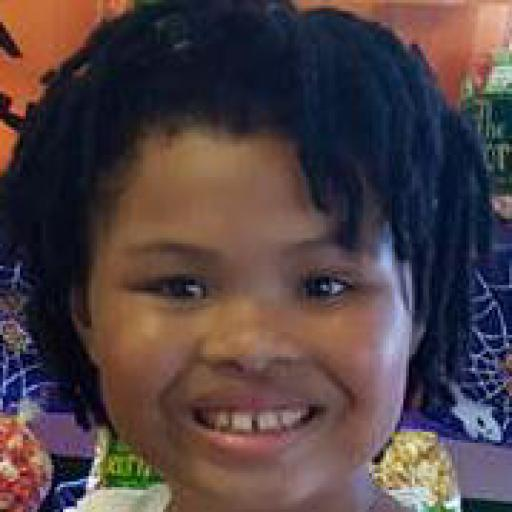Autism: (23, 3, 512, 512)
